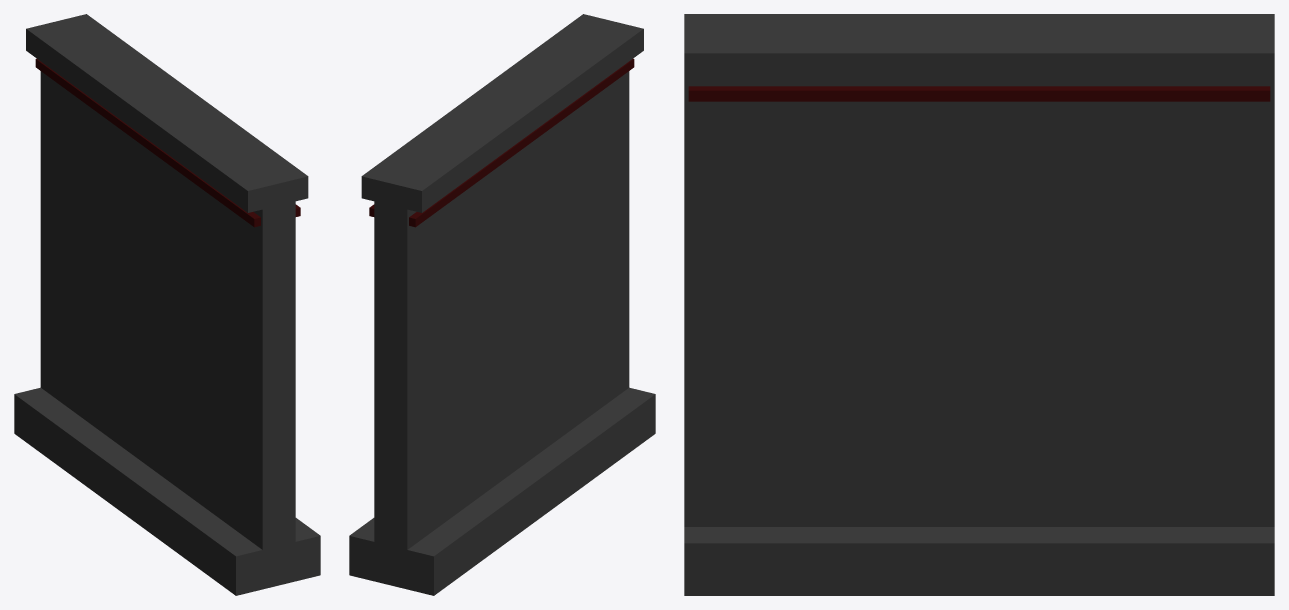
The model's file is Housewallwindowless_Kikl.fbx.
3 renders of one model, left to right at view 1: azimuth 30°, elevation 25°; view 2: azimuth 150°, elevation 25°; view 3: azimuth 270°, elevation 25°, orthographic. The views are drawn at different scales.
Parts seen in each view (by area): view 1: Cube.011, Cube.015; view 2: Cube.011, Cube.015; view 3: Cube.011, Cube.015.
Boxes of the visible parts, left/top/right/bottom form: Cube.011: left=14, top=14, right=320, bottom=595; Cube.015: left=35, top=58, right=300, bottom=227; Cube.011: left=349, top=14, right=655, bottom=595; Cube.015: left=369, top=58, right=634, bottom=227; Cube.011: left=684, top=14, right=1274, bottom=595; Cube.015: left=688, top=86, right=1270, bottom=101.
Size of the model in its own units: 245 by 1112 by 1112.
